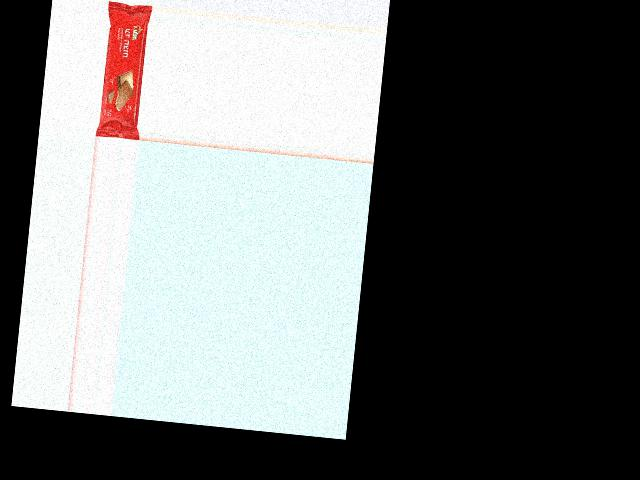chocolate: (94, 4, 152, 138)
